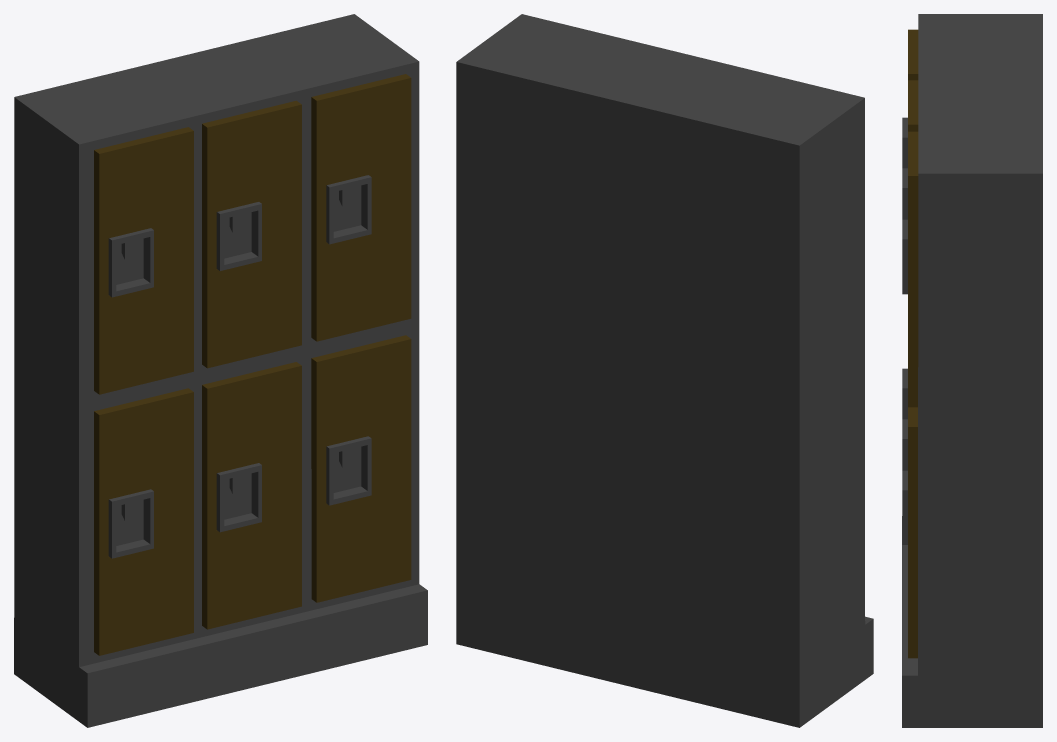
File: DD_4_lockersClosed_HENRY.fbx
The picture shows the model from 3 angles, left to right: view 1: azimuth 30°, elevation 25°; view 2: azimuth 150°, elevation 25°; view 3: azimuth 270°, elevation 25°; orthographic projection. The views are drawn at different scales.
Visible parts, largest first — view 1: lockDoorsOpen, lockerBody, lockerLocks; view 2: lockerBody; view 3: lockerBody, lockDoorsOpen, lockerLocks.
Part boxes in pixels (x1,y1,x2,y2): lockDoorsOpen: (94,74,411,655); lockerBody: (14,14,427,727); lockerLocks: (108,175,371,558); lockerBody: (456,14,873,727); lockerBody: (902,14,1042,727); lockDoorsOpen: (908,29,918,658); lockerLocks: (902,117,907,544).
Size of the model in its own units: 9.89 by 16.03 by 3.69.
